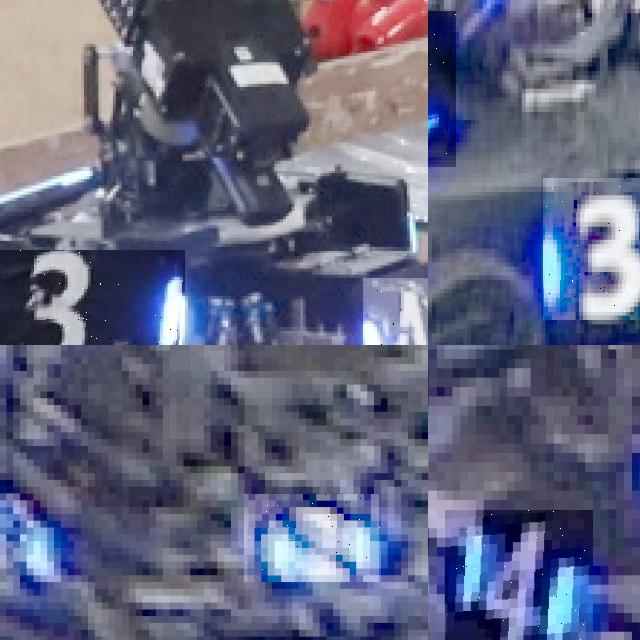B2: (244, 494, 380, 582)
B3: (0, 249, 185, 345), (543, 178, 640, 320)
B4: (444, 509, 593, 640), (363, 278, 428, 345)
